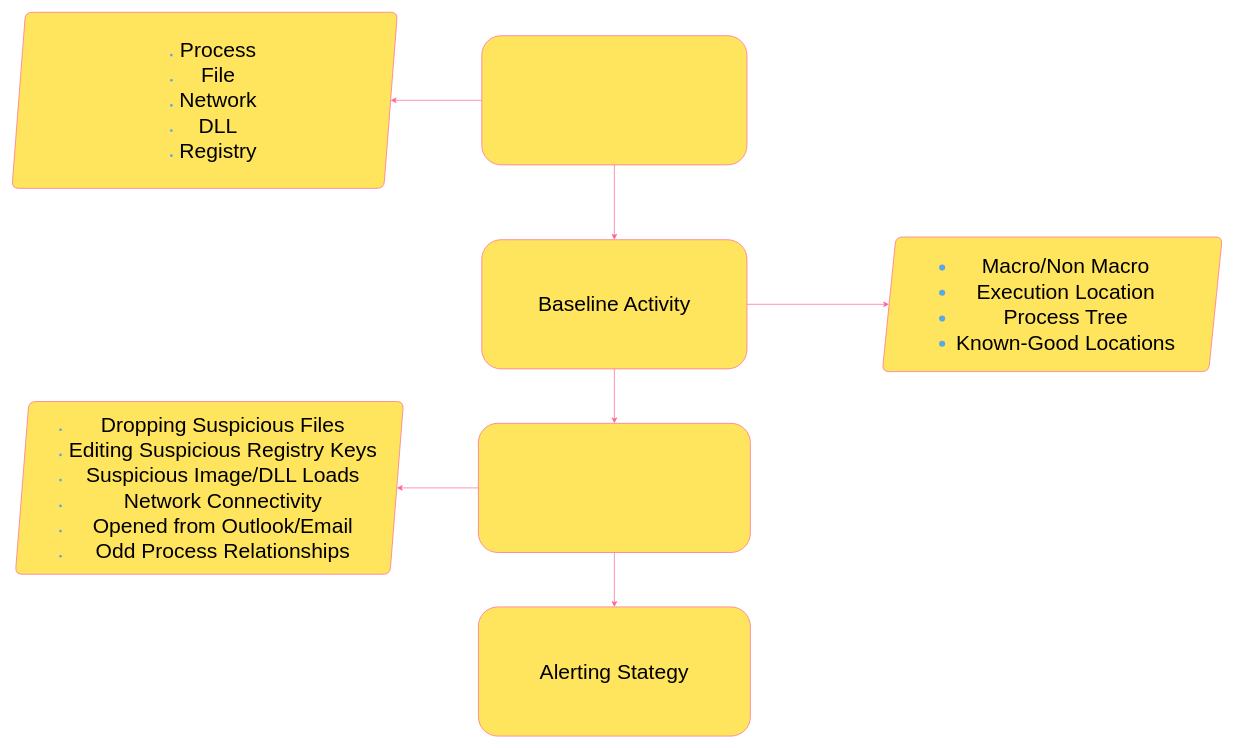
The diagram is 1234 pixels wide and 748 high, and some of its shapes have lost their labels. The centre of each missing label's shape, as x and y in pixels:
"Discover Odd/Malicious Behaviour" goes at point (614, 487).
"Gain Macro Visibility" goes at point (614, 100).
